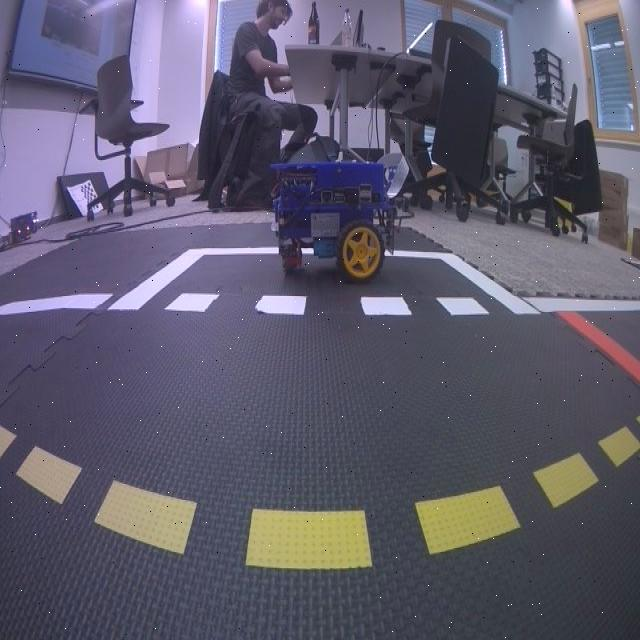bot: (272, 157, 408, 282)
park: (106, 246, 540, 316)
